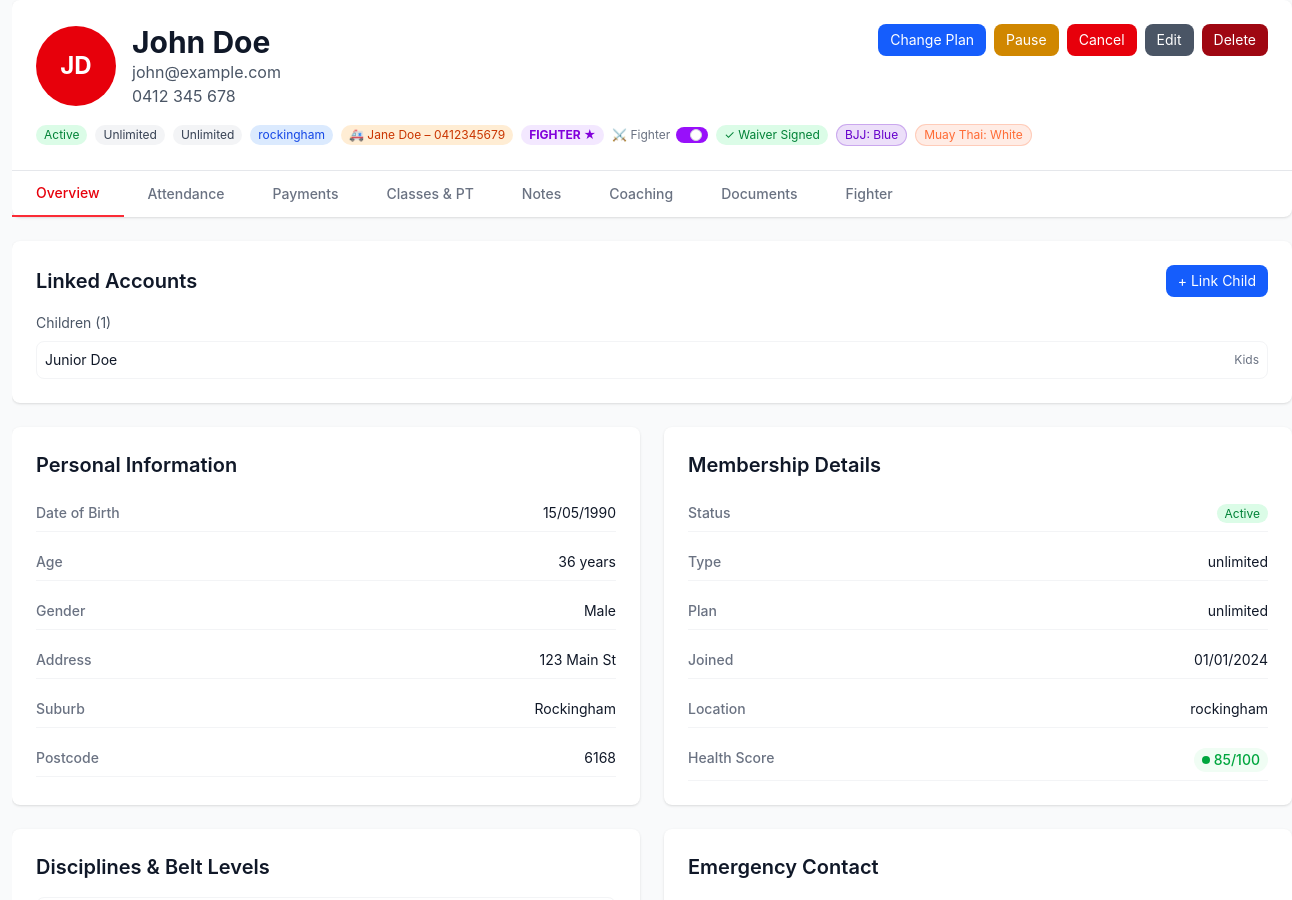
Test: MemberProfile Page › shows notes in notes tab
Expected: the heading "John Doe" is shown, [132,24,281,60]
Click the button "Notes": (542, 194) [498,171,585,217]
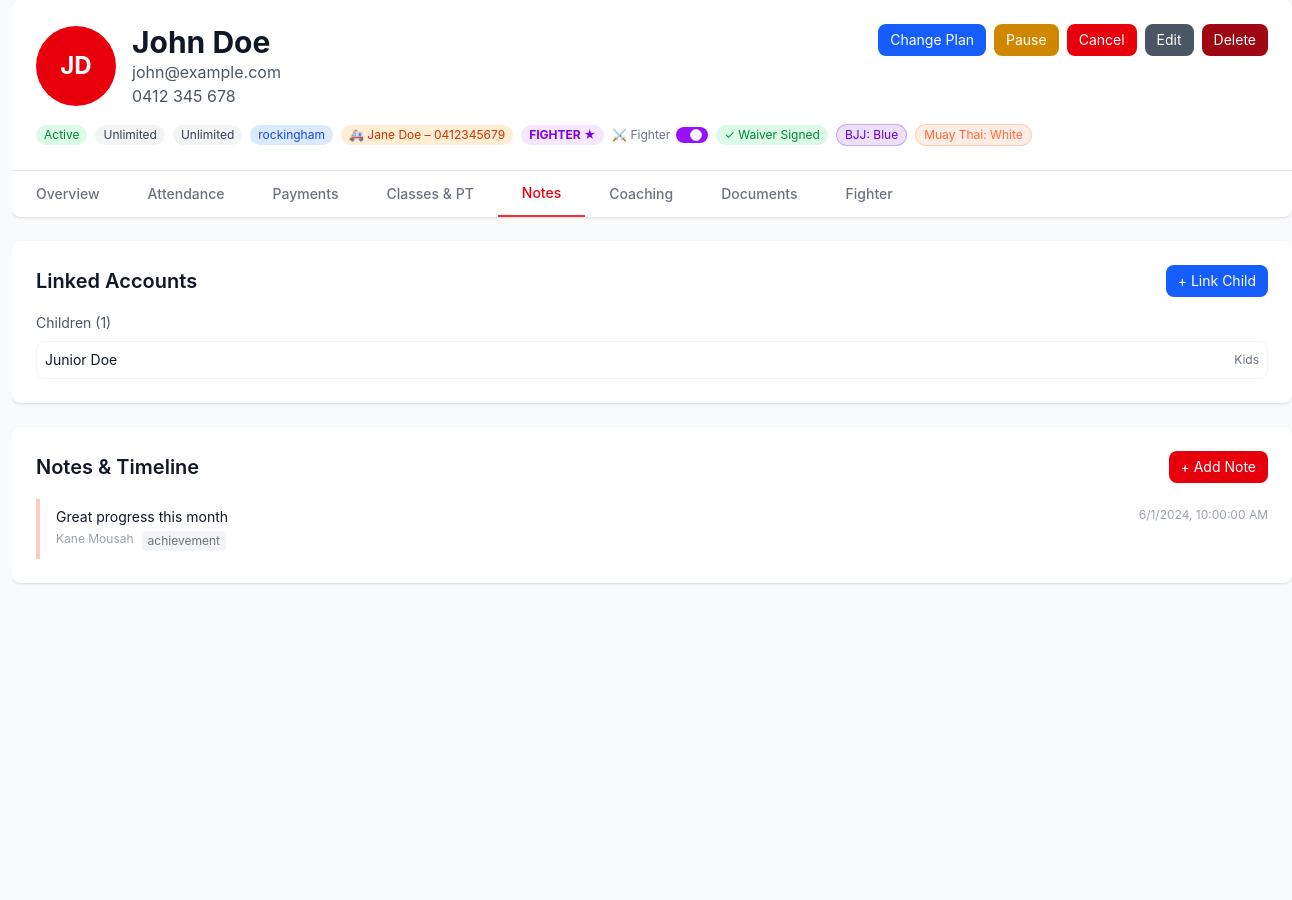
Expected: the text "Great progress this month" is shown, [56,507,228,527]
